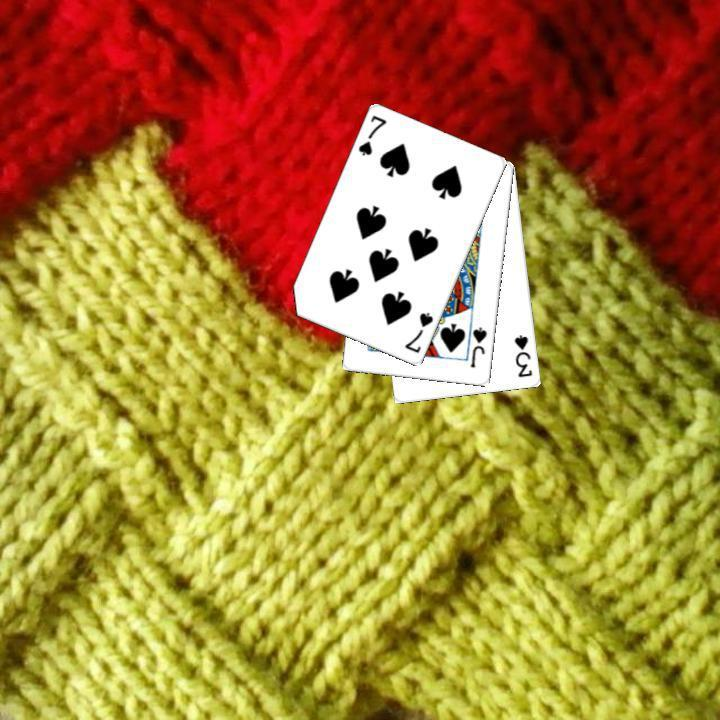3: (510, 331, 535, 379)
7: (354, 111, 389, 158), (401, 308, 435, 356)
J: (466, 323, 489, 370)
